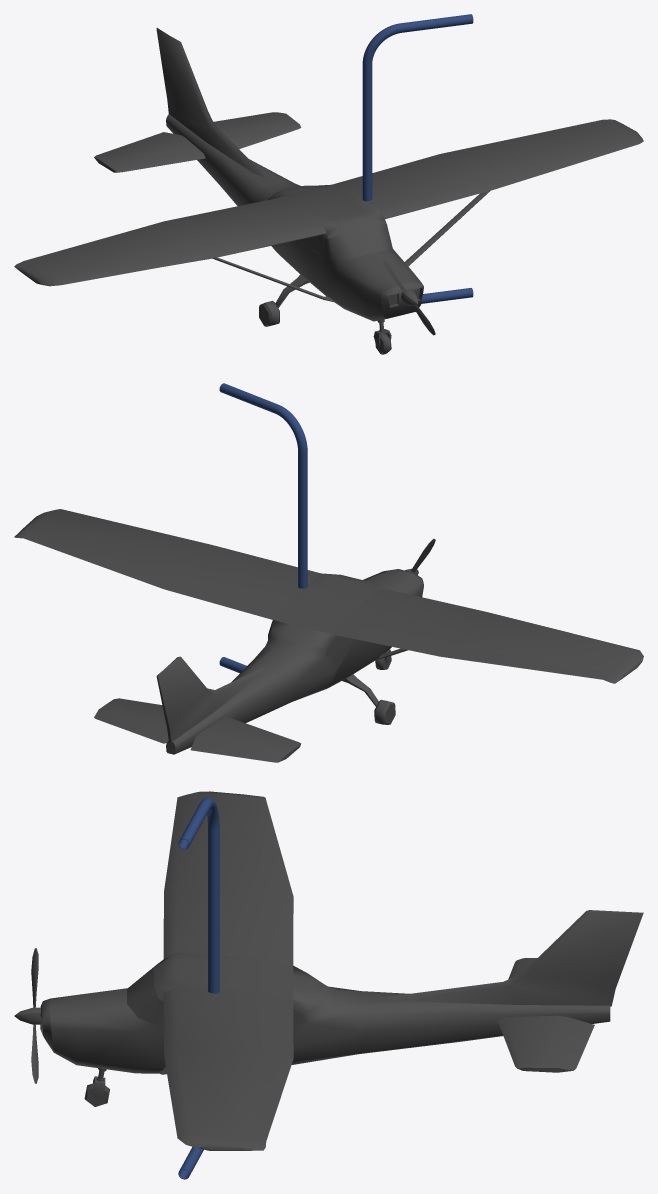
The model's file is plane_example.obj.
3 views of the same model, one above another, from view 1: azimuth 30°, elevation 25°; view 2: azimuth 150°, elevation 25°; view 3: azimuth 270°, elevation 25° (orthographic). The views are drawn at different scales.
Parts seen in each view (by area): view 1: awionetka, Tube_U_shape; view 2: awionetka, Tube_U_shape; view 3: awionetka, Tube_U_shape.
Part boxes in pixels (x1,y1,x2,y2): awionetka: (14, 28, 643, 354); Tube_U_shape: (362, 14, 473, 303); awionetka: (14, 509, 643, 762); Tube_U_shape: (219, 383, 307, 673); awionetka: (14, 791, 643, 1150); Tube_U_shape: (178, 798, 219, 1179).
Bounding box in the file's own units: 130 × 58.42 × 97.93.
